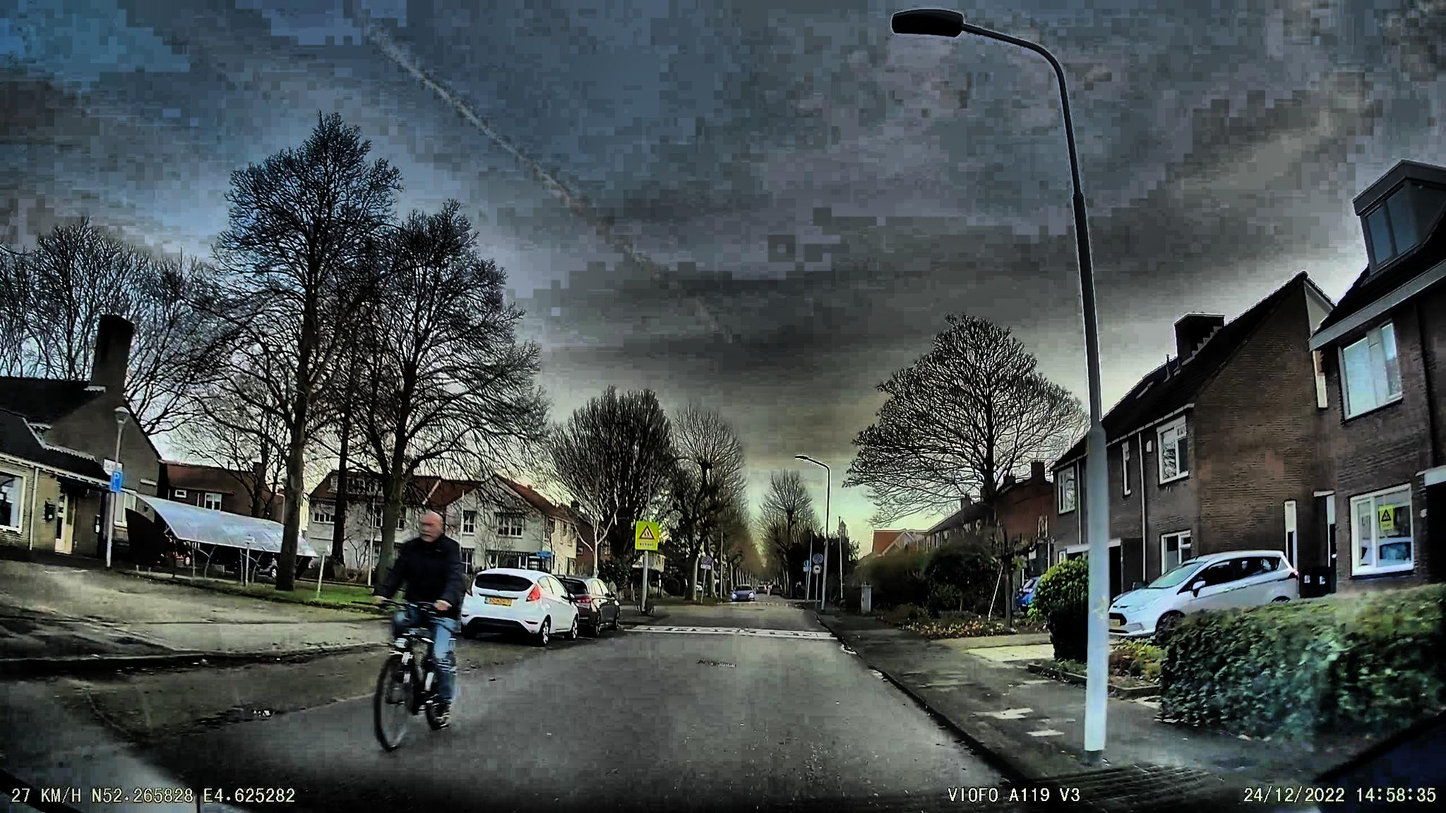Roads: (0, 601, 999, 813)
